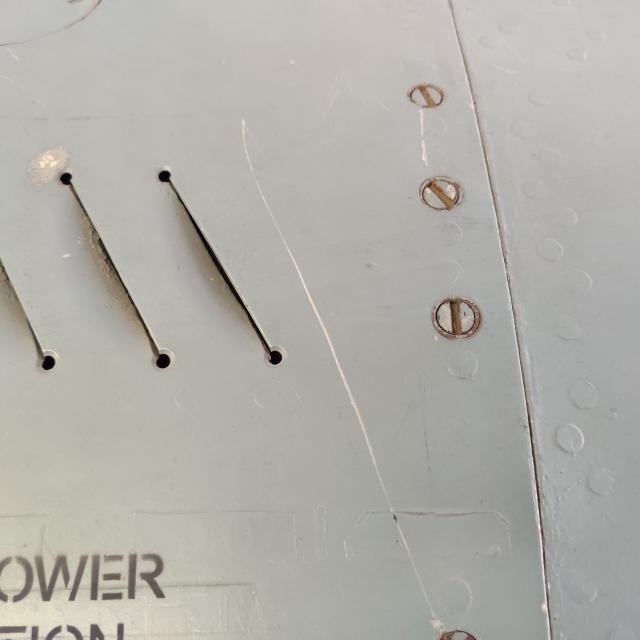scratch: (179, 109, 452, 634)
